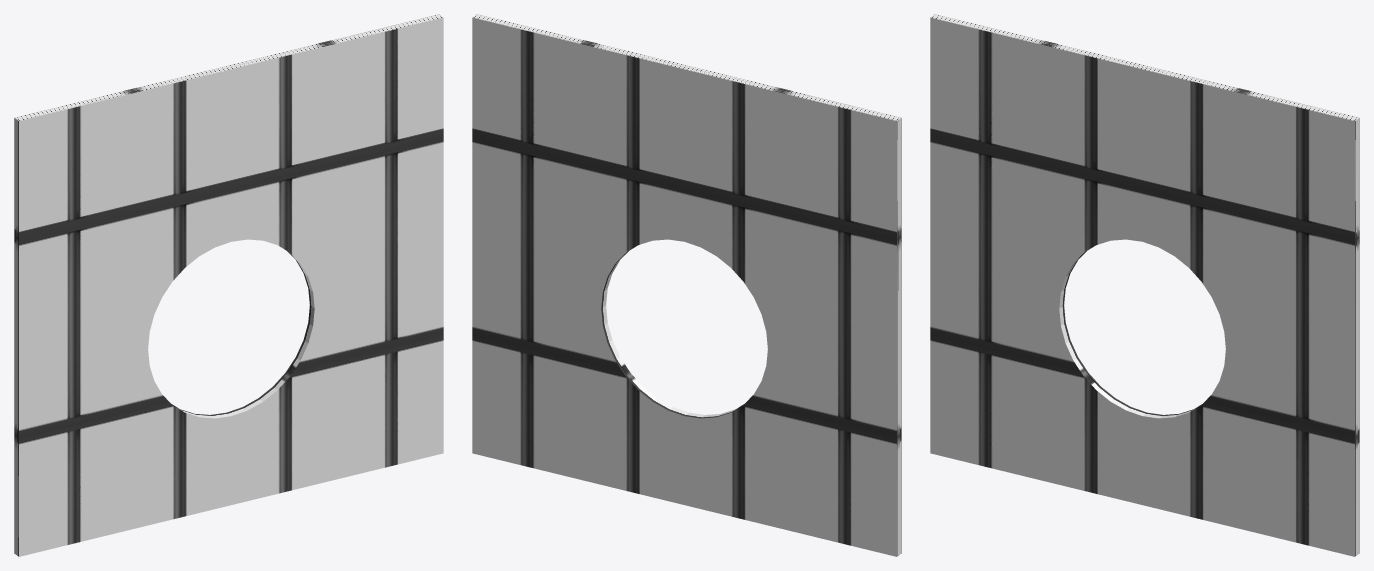
File: Model_CageGrateHole.obj
The picture shows the model from 3 angles, left to right: view 1: azimuth 30°, elevation 25°; view 2: azimuth 150°, elevation 25°; view 3: azimuth 330°, elevation 25°; orthographic projection.
Parts seen in each view (by area): view 1: Model_CageGrateFull.001; view 2: Model_CageGrateFull.001; view 3: Model_CageGrateFull.001.
Part boxes in pixels (bbox=[...]): Model_CageGrateFull.001: bbox=[14, 14, 443, 556]; Model_CageGrateFull.001: bbox=[472, 14, 901, 556]; Model_CageGrateFull.001: bbox=[930, 14, 1359, 556].
Size of the model in its own units: 5.1 by 5 by 0.1.
1 material, 1 textured.
